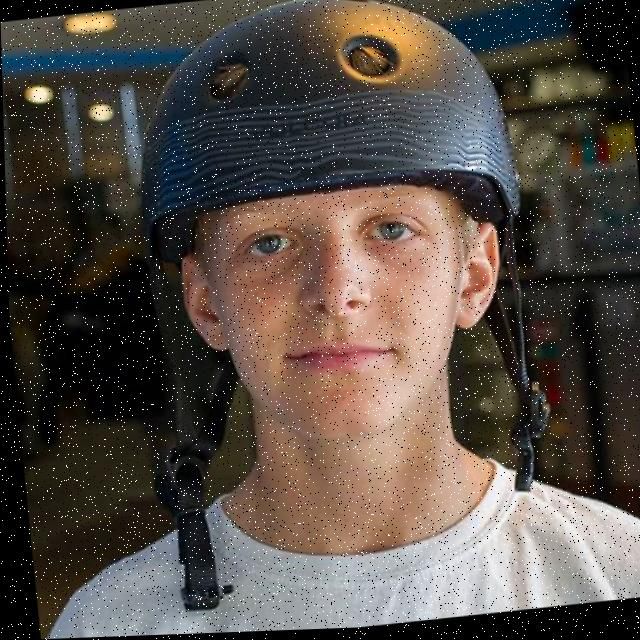illegal_helmet: (102, 0, 569, 628)
